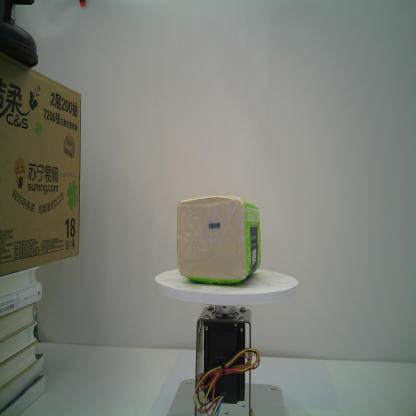Tissue: (176, 195, 262, 284)
